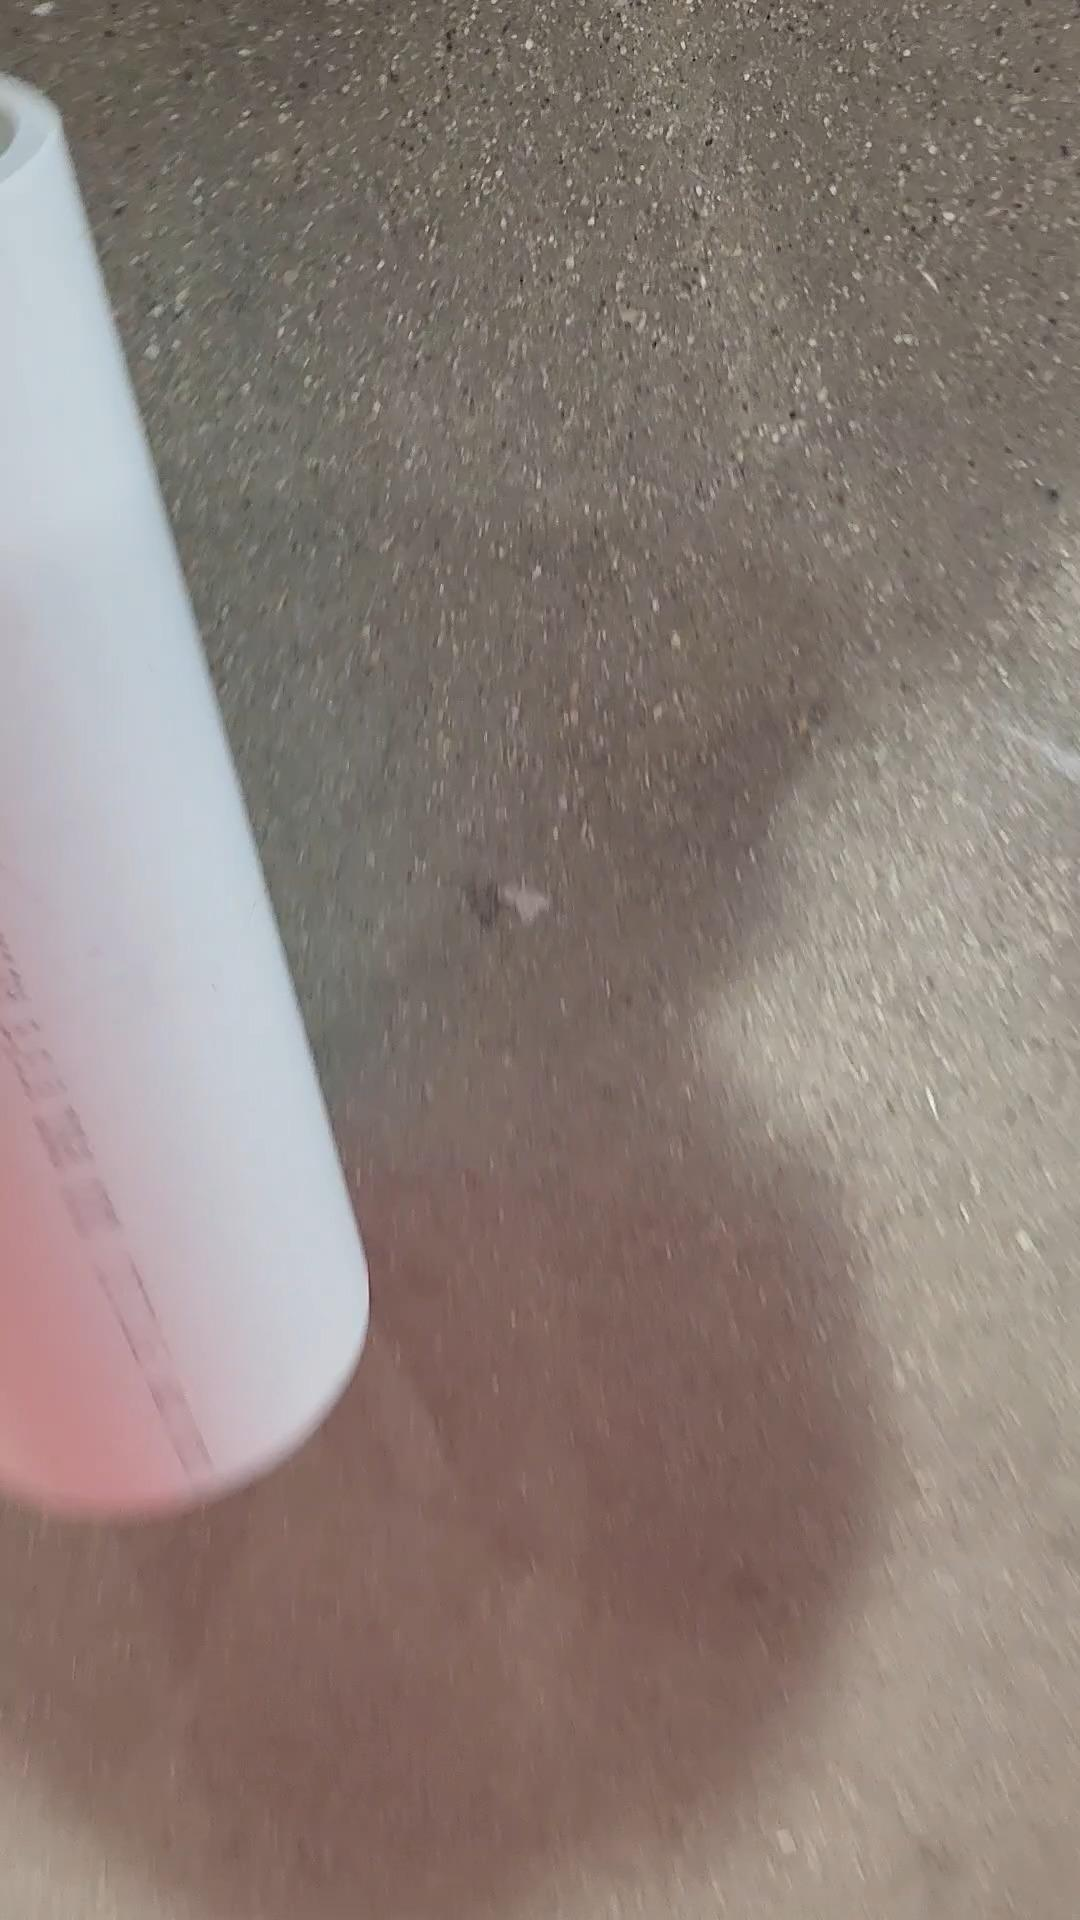coral: (0, 65, 370, 1517)
